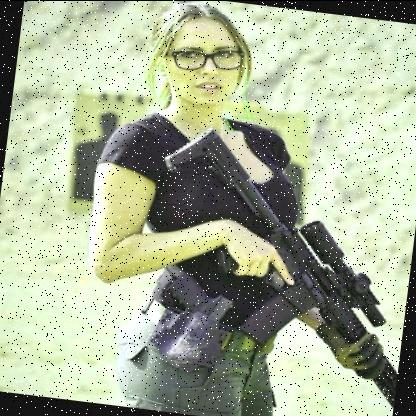rifle: (138, 114, 416, 414)
